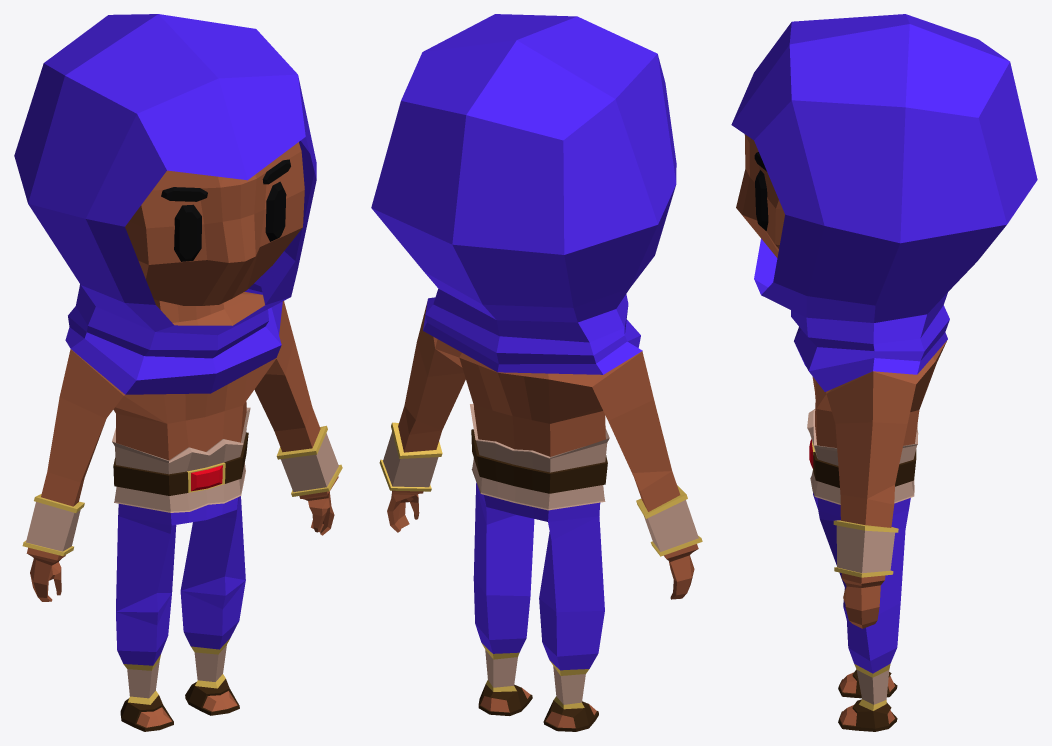
Rendered from lowpoly_sand_surfer.fbx.
3 renders of one model, left to right at view 1: azimuth 30°, elevation 25°; view 2: azimuth 150°, elevation 25°; view 3: azimuth 270°, elevation 25°, orthographic.
Parts seen in each view (by area): view 1: Cube; view 2: Cube; view 3: Cube.
Part boxes in pixels (x1,y1,x2,y2): Cube: (14,14,342,731); Cube: (371,14,702,731); Cube: (731,14,1037,731).
Bounding box in the file's own units: 78.4 × 159 × 64.92.
